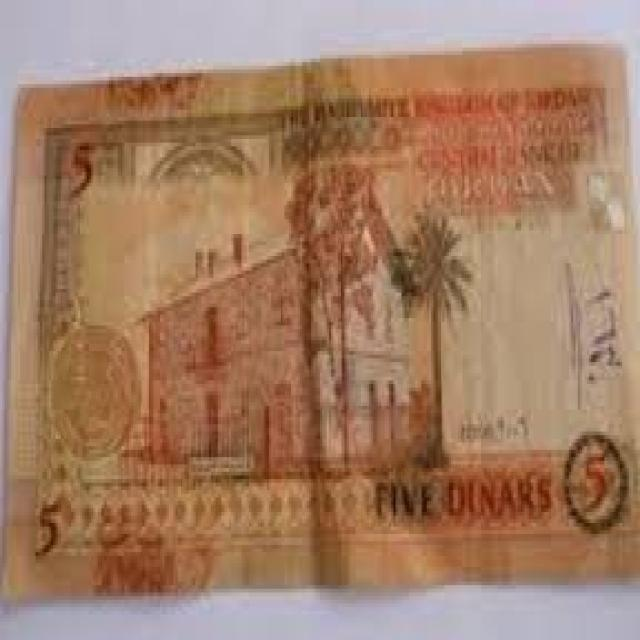1-dinar: (0, 42, 640, 606)
